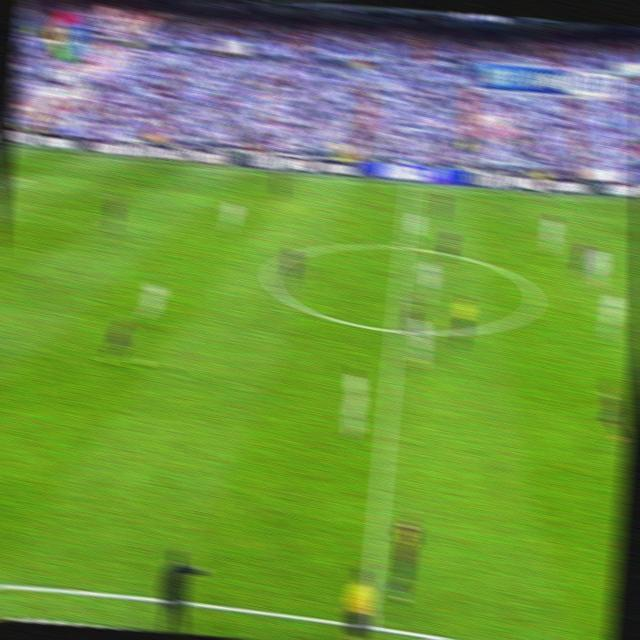bigarea_bottom_inner: (359, 612, 379, 637)
halfcircle_top: (395, 235, 412, 258)
midline_bottom_intersection: (359, 612, 379, 636)
midline_top_intersection: (402, 179, 417, 194)
